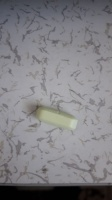Aferin: (35, 105, 79, 131)
